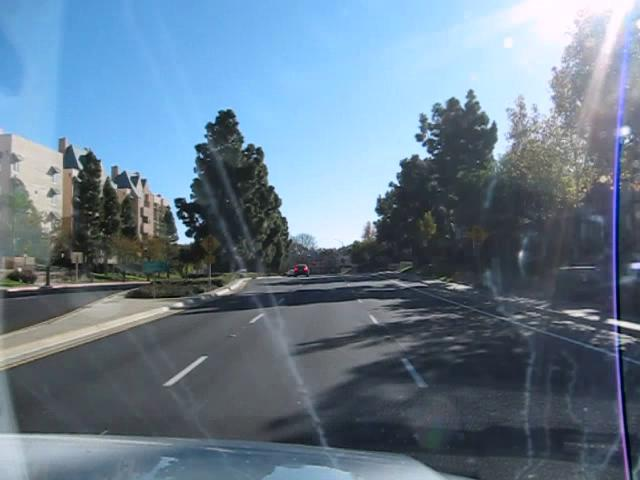signalAhead: (199, 231, 222, 255)
